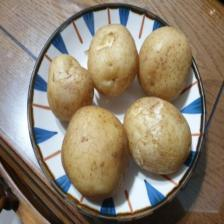Potato: (61, 104, 130, 201), (122, 95, 193, 177), (139, 24, 192, 104), (87, 22, 139, 99), (46, 52, 94, 117)
